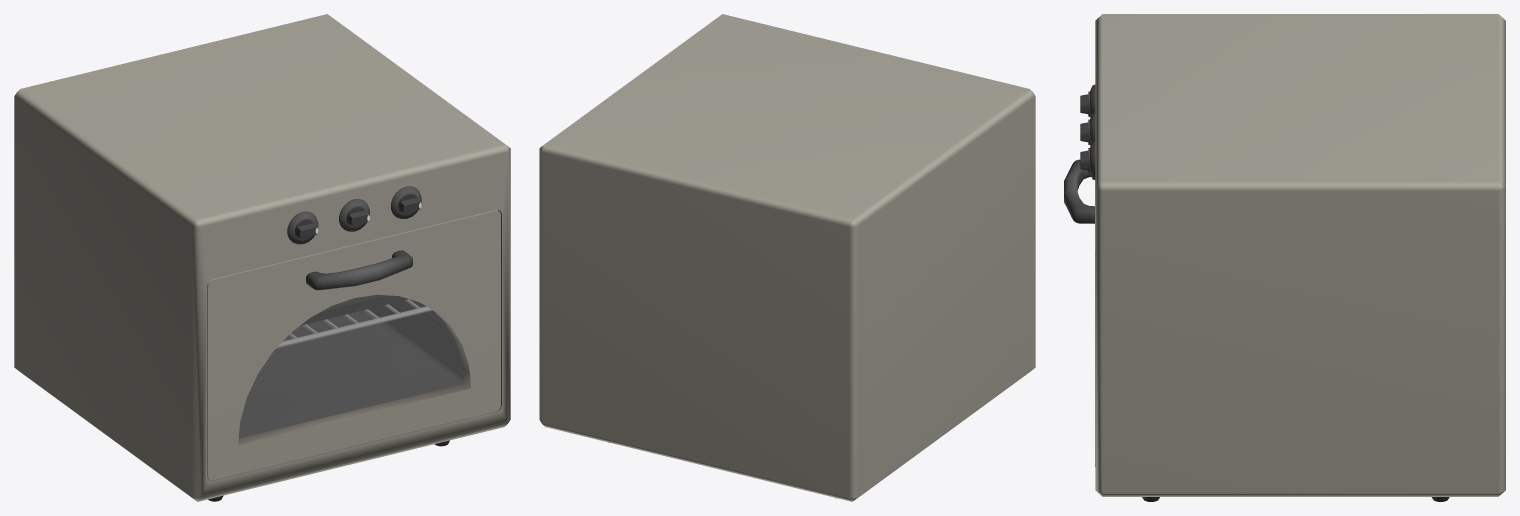
File: oven.fbx
The picture shows the model from 3 angles, left to right: view 1: azimuth 30°, elevation 25°; view 2: azimuth 150°, elevation 25°; view 3: azimuth 270°, elevation 25°; orthographic projection. The views are drawn at different scales.
Visible parts, largest first — view 1: oven_2, door, grid, bakingTray; view 2: oven_2; view 3: oven_2, door.
Part boxes in pixels (x1,y1,x2,y2): oven_2: [14, 14, 510, 501]; door: [207, 210, 500, 480]; grid: [277, 299, 432, 348]; bakingTray: [301, 295, 407, 325]; oven_2: [539, 14, 1035, 501]; oven_2: [1095, 14, 1505, 496]; door: [1064, 159, 1095, 466].
Size of the model in its own units: 2.77 by 2.98 by 2.53.
